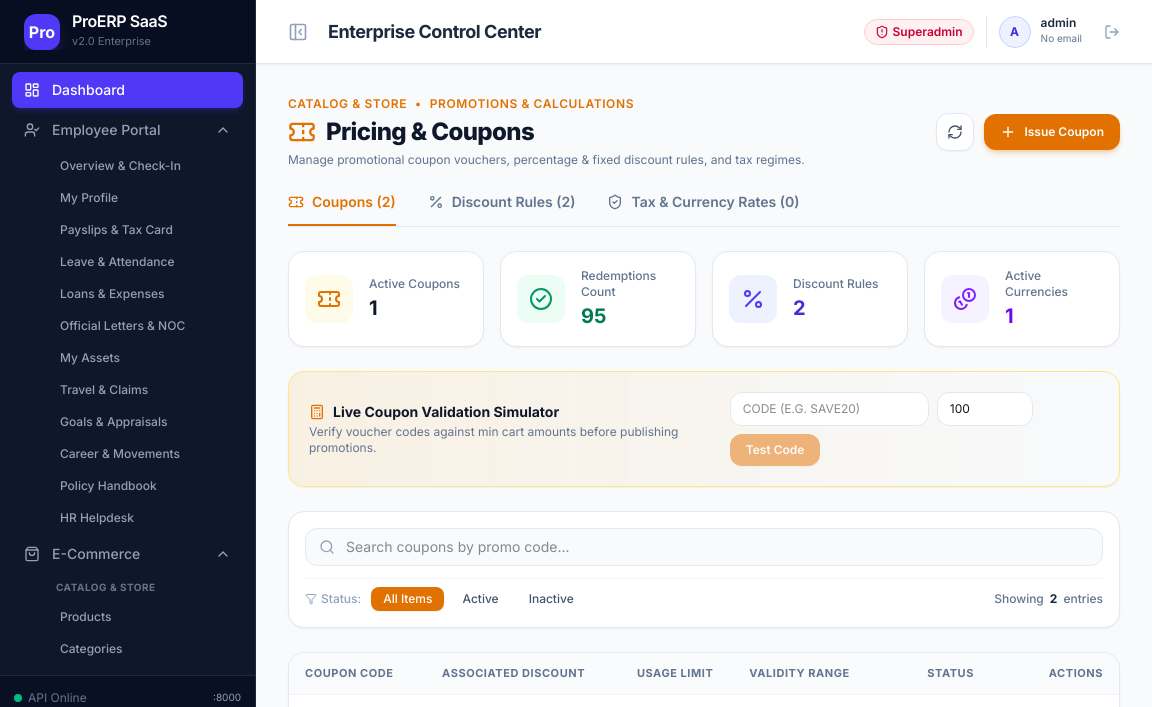
Test: Ecommerce Pricing & Coupons In-Place Non-Destructive Filtering Audit › simulates coupon validation with live validator tester
In the field with placeholder "Code (e.g. SAVE20)": (829, 409) 730,392 -> 929,426, type "SAVE20NOW"
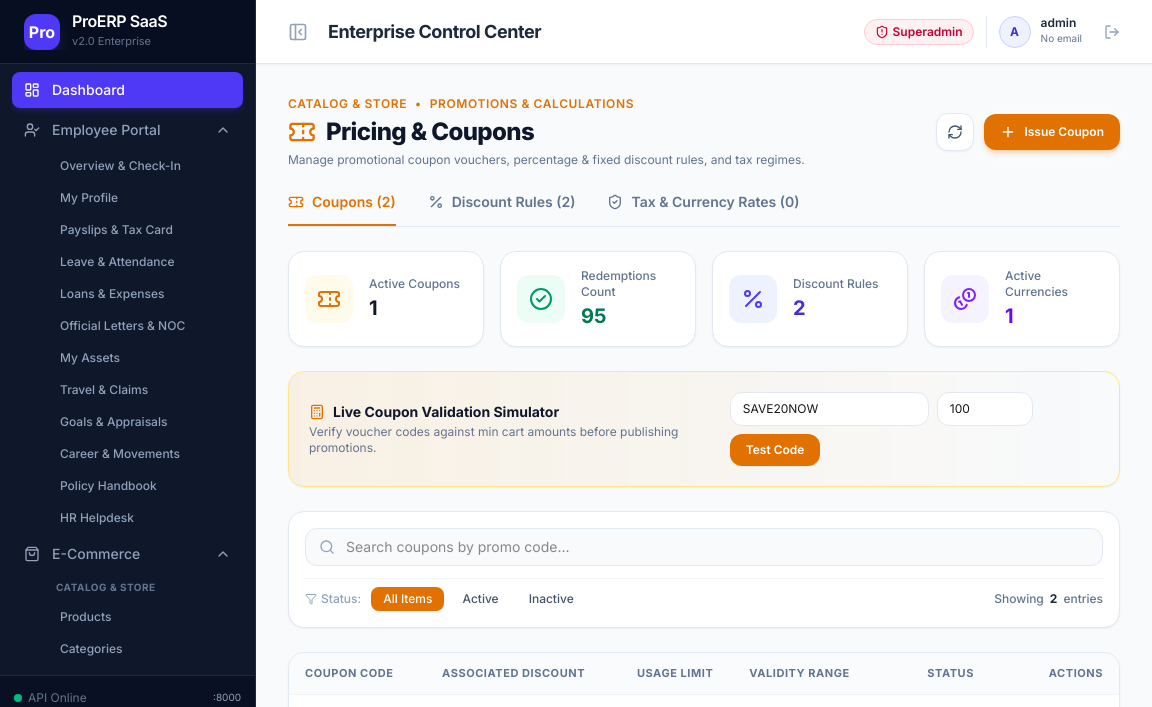
Click the button "Test Code": (775, 450) 730,434 -> 820,466
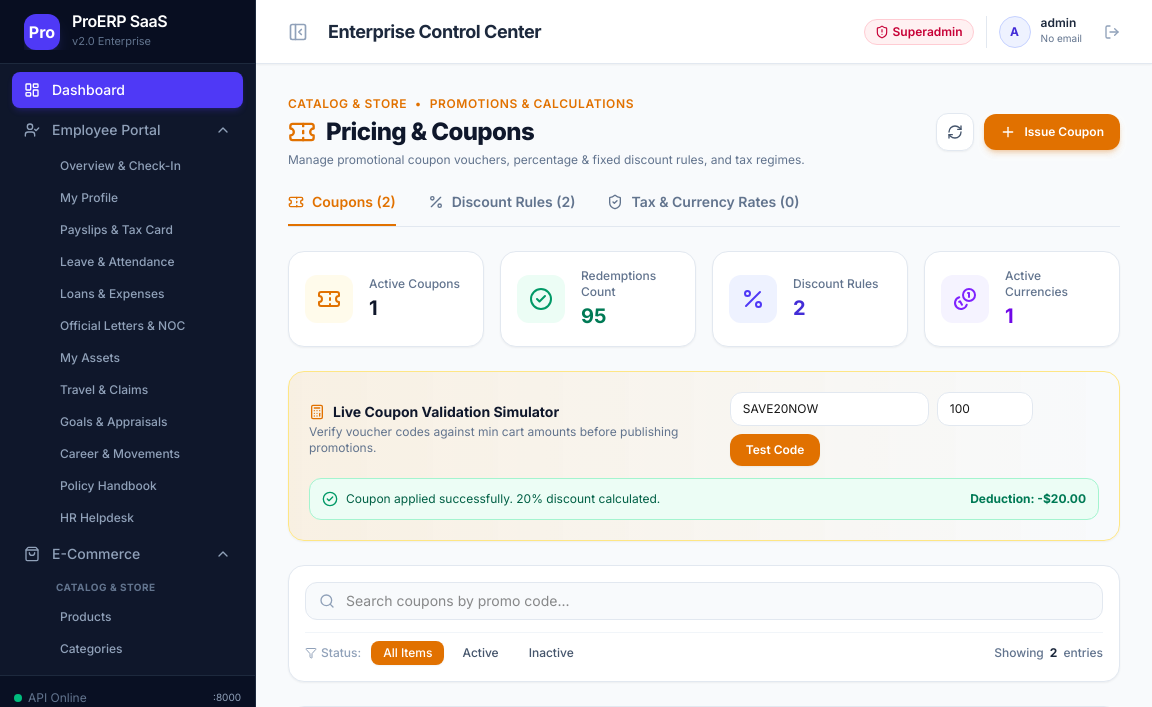
Result: the text "Coupon applied successfully. 20% discount calculated." is shown at 346,491 -> 660,507
Result: the text "Deduction: -$20.00" is shown at 970,491 -> 1086,507
